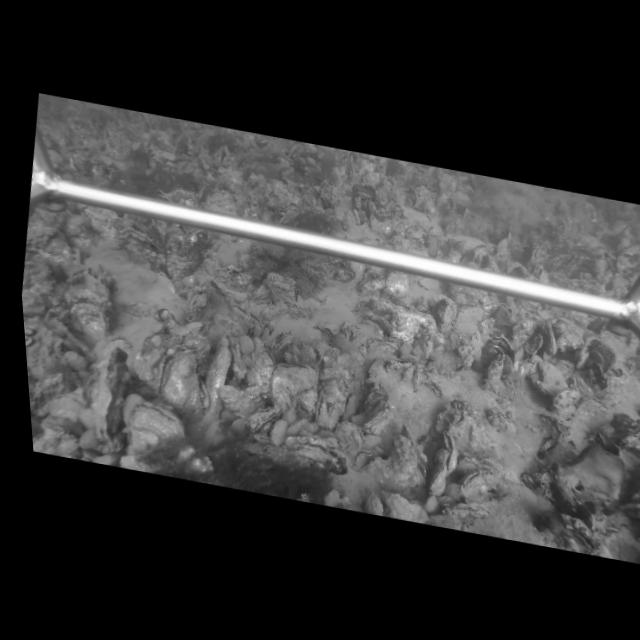Oyster-Closed: (549, 396, 611, 463), (127, 399, 188, 453), (90, 352, 122, 442), (268, 362, 317, 409), (426, 434, 458, 498), (157, 350, 197, 397), (285, 444, 348, 473), (329, 333, 367, 366), (253, 337, 275, 387), (246, 405, 280, 435), (460, 470, 495, 499), (362, 401, 392, 434), (482, 354, 504, 386), (544, 319, 557, 355), (314, 395, 327, 424), (574, 345, 589, 370)
Oyster-Indeterminate: (130, 327, 171, 384), (68, 297, 111, 341), (215, 383, 264, 416), (207, 344, 231, 391), (590, 339, 616, 372)
